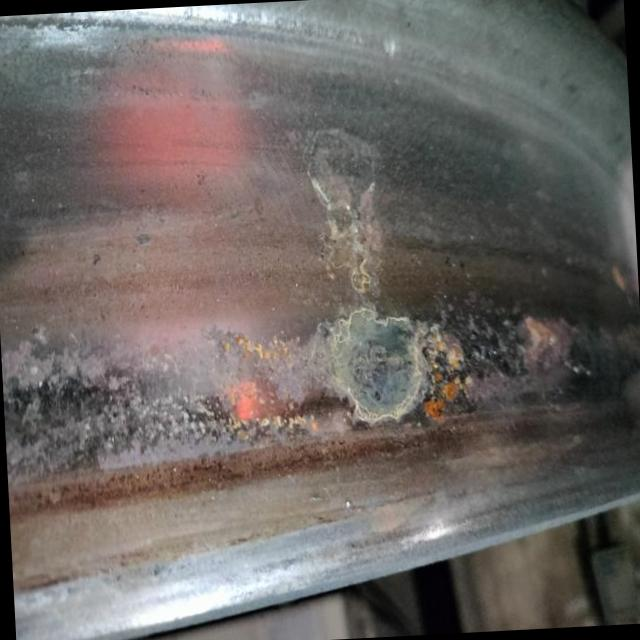Peeling: (317, 169, 384, 299)
Rollerpile: (1, 294, 640, 474)
